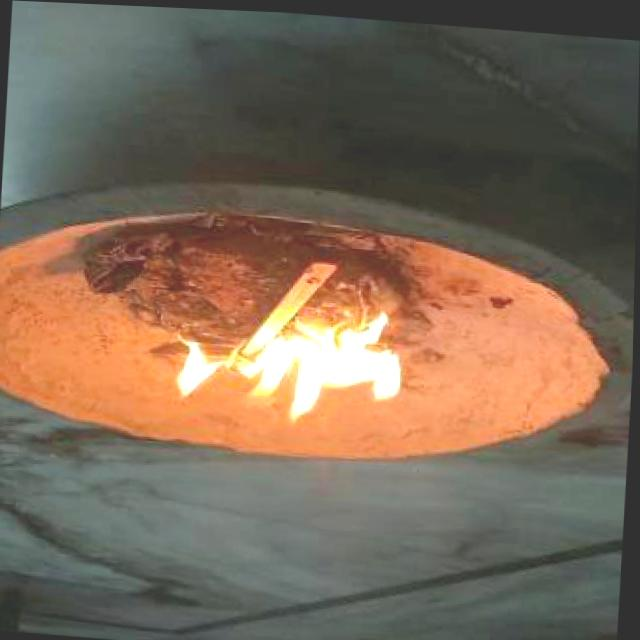helmet: (164, 291, 413, 429)
